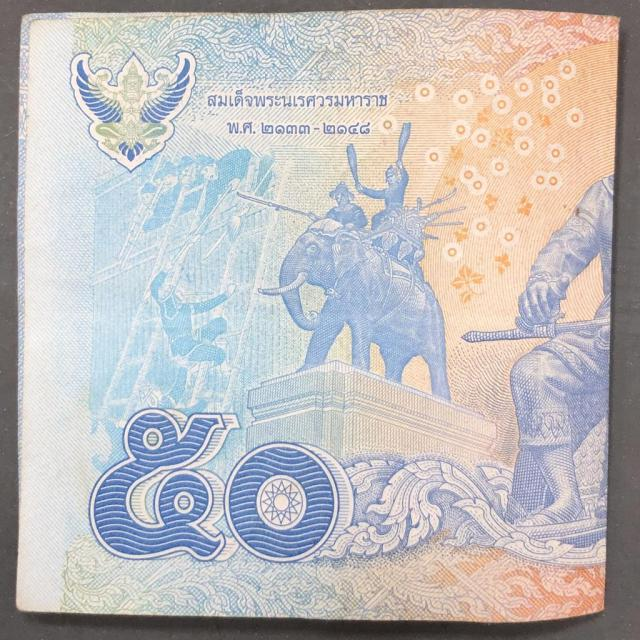THAI50: (16, 9, 618, 623)
